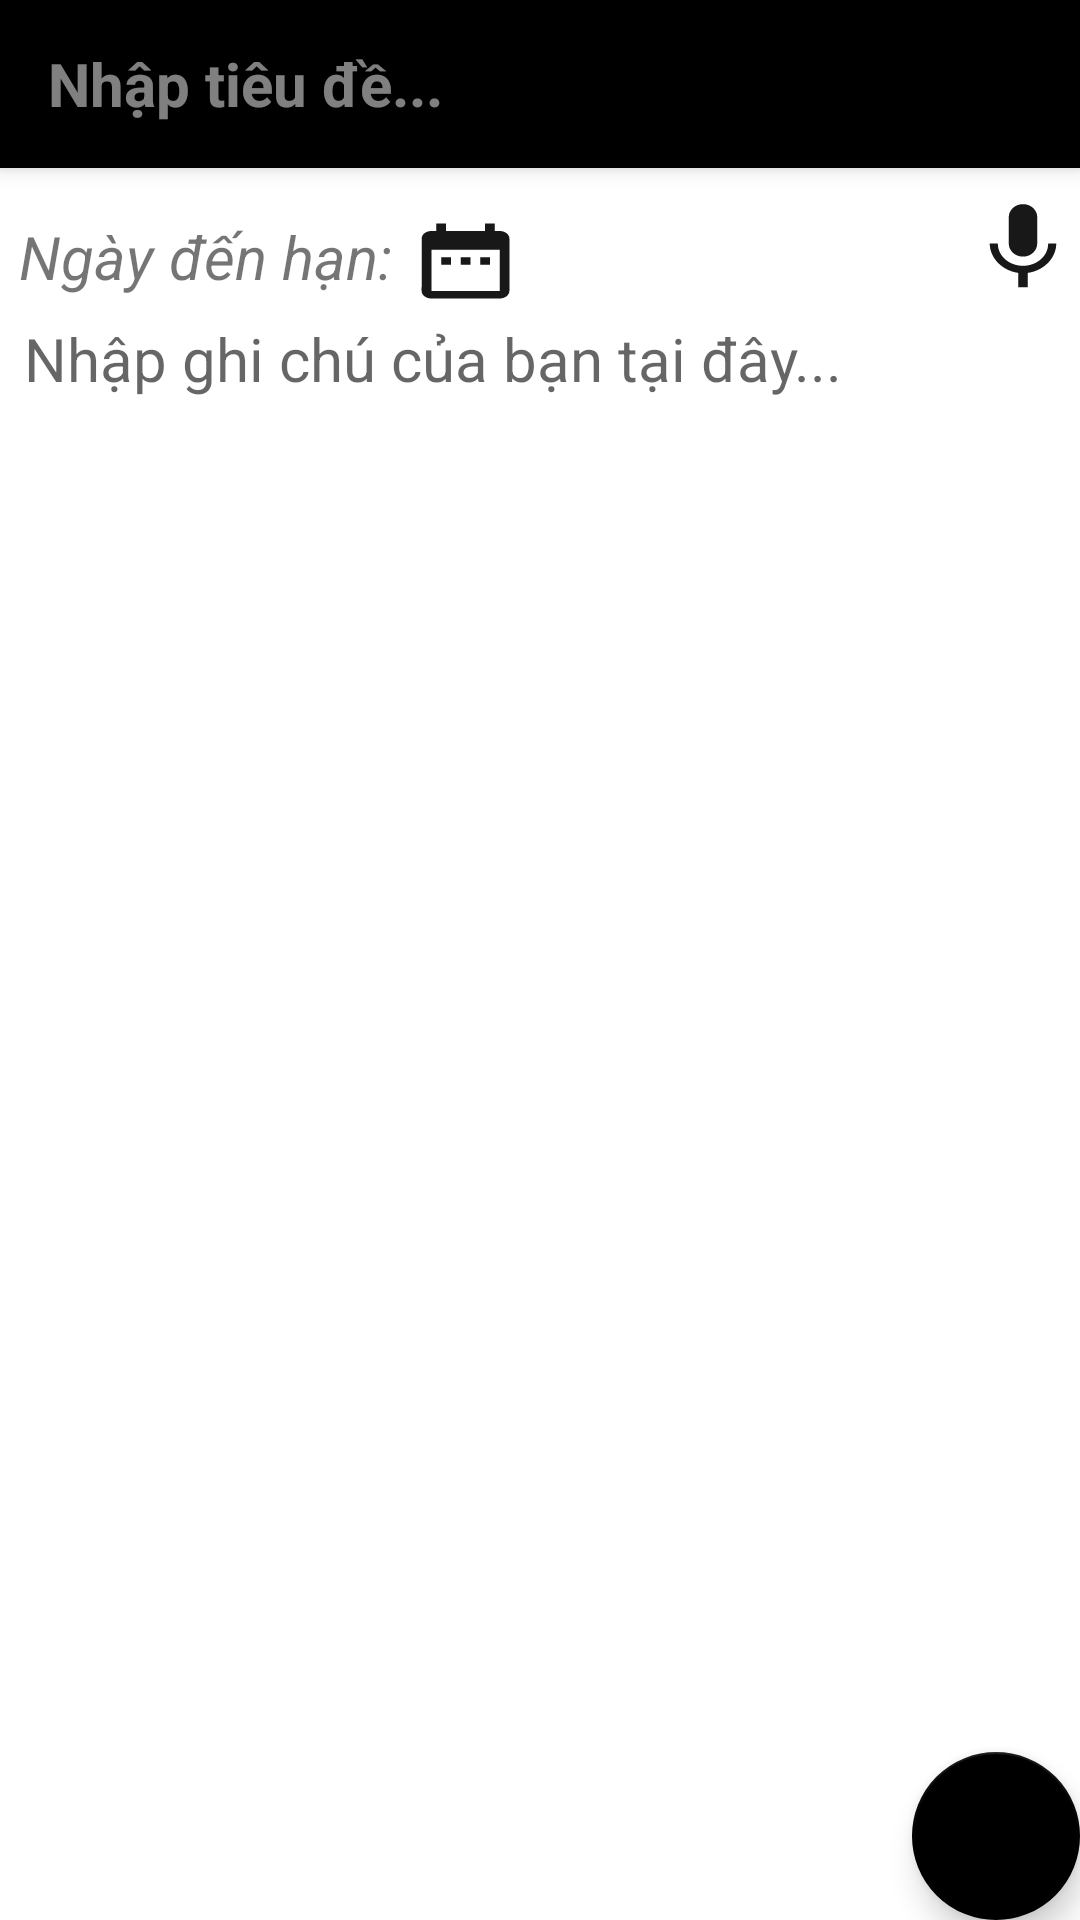

Point at icon controls on the screen. Image size 1080 x 1920, points as (x=x, y=y).
date range: (x=465, y=261)
keyboard voice: (x=1023, y=246)
